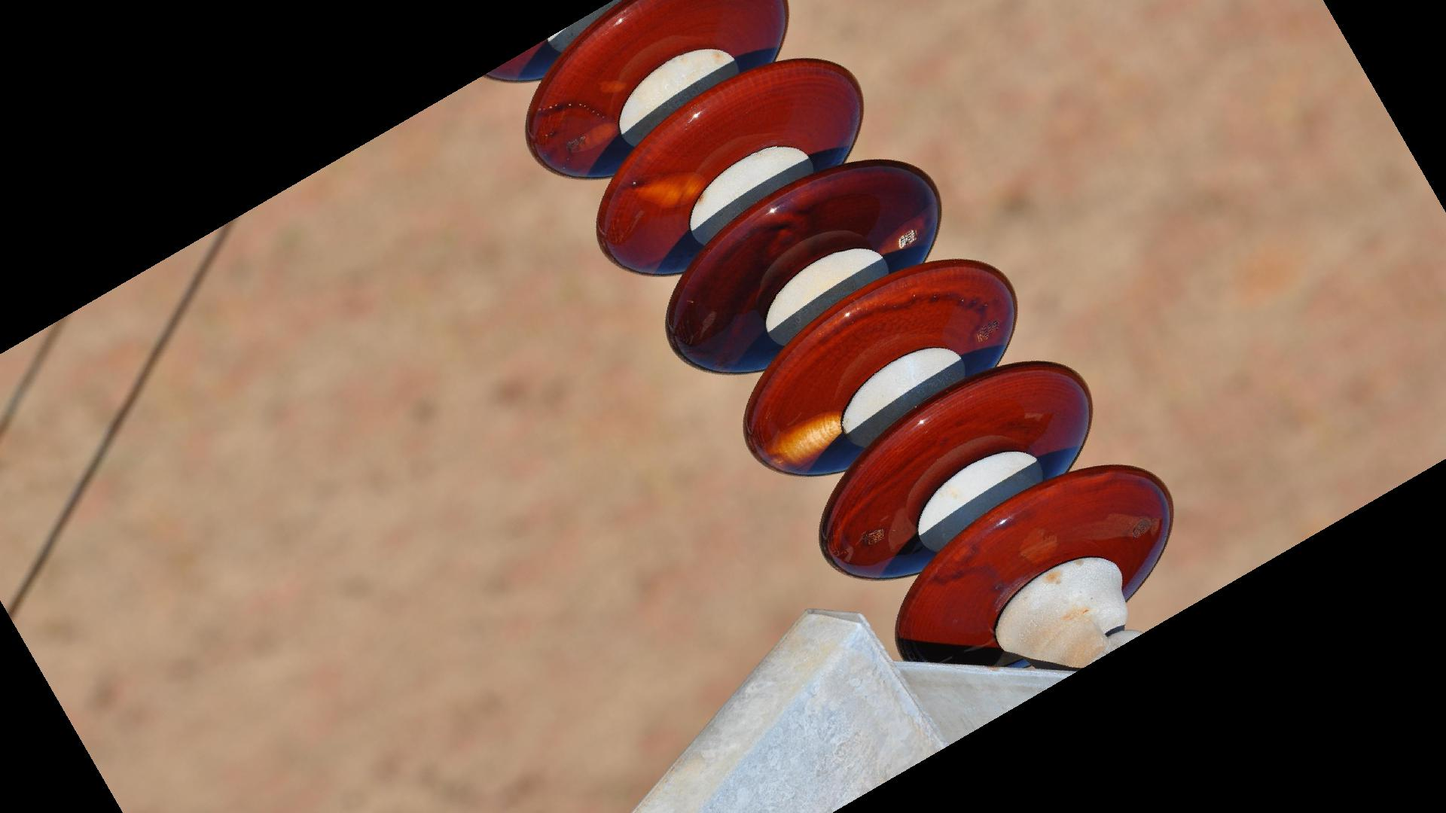insulator: (478, 1, 1181, 676)
insulator_flashover: (760, 406, 844, 473), (632, 168, 709, 212)
